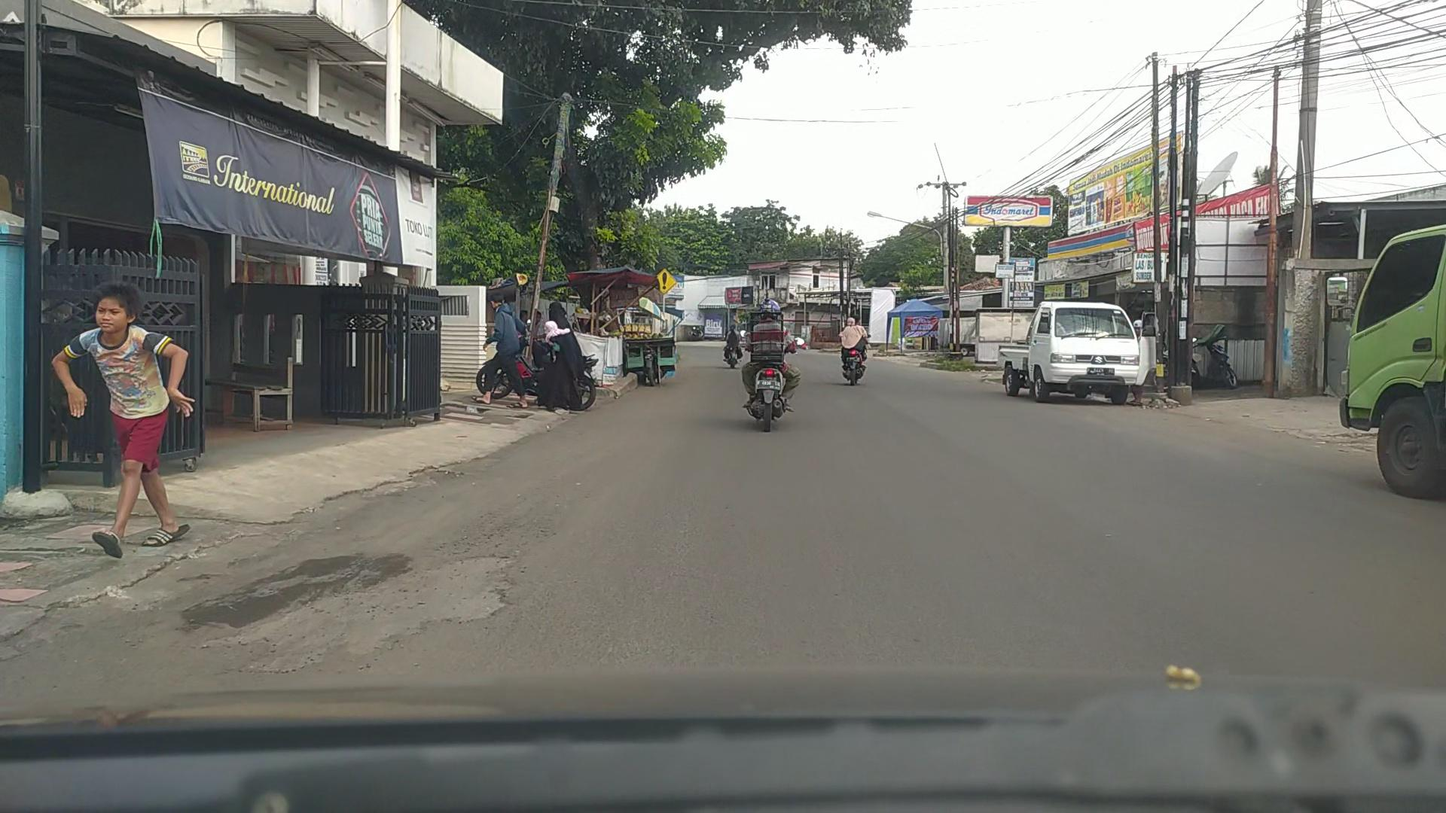pothole: (206, 552, 512, 676)
